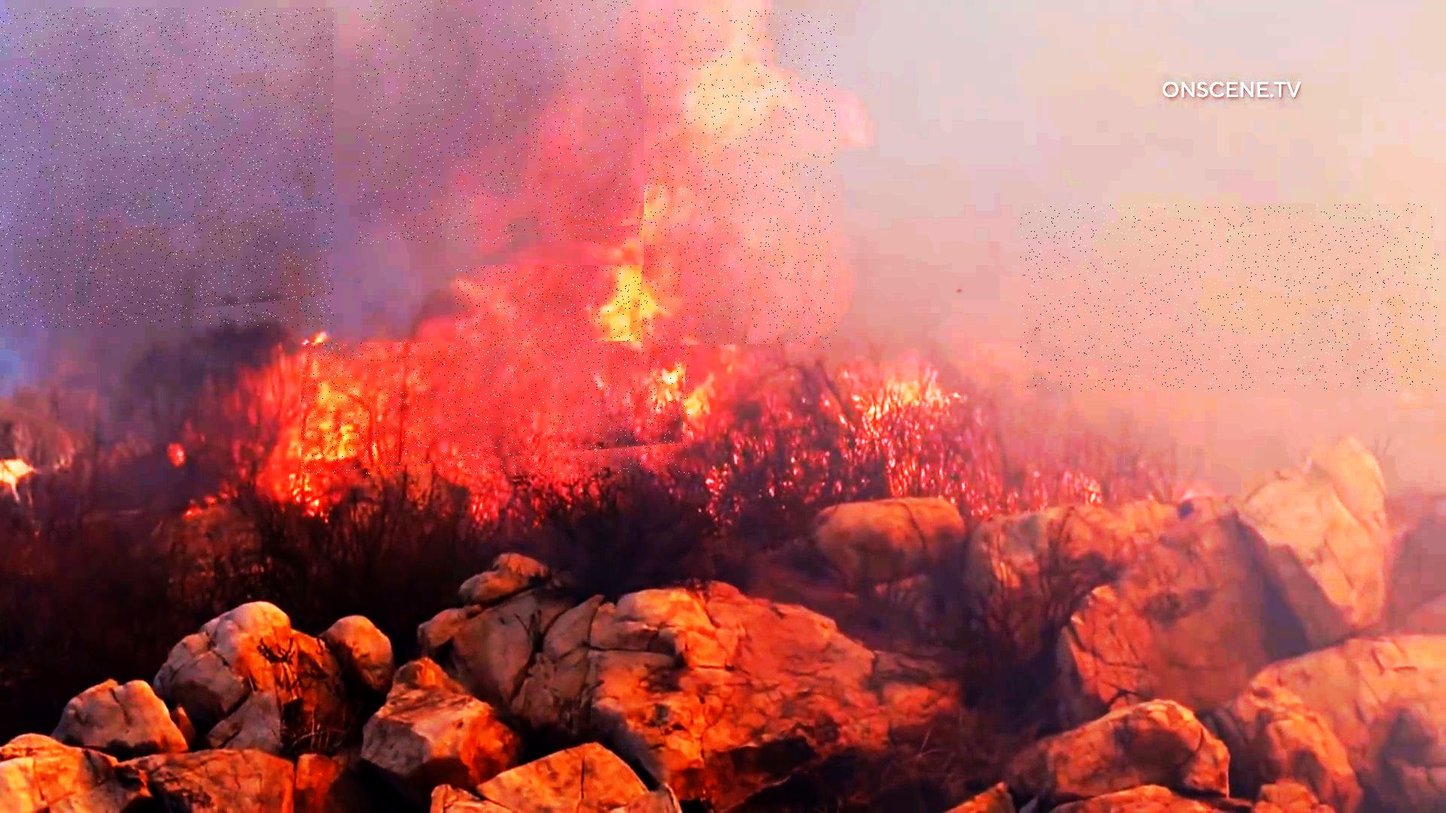fire: (644, 10, 837, 348), (302, 343, 690, 475), (456, 266, 645, 356)
smoke: (0, 8, 334, 327), (1021, 204, 1439, 392), (356, 0, 642, 244)
